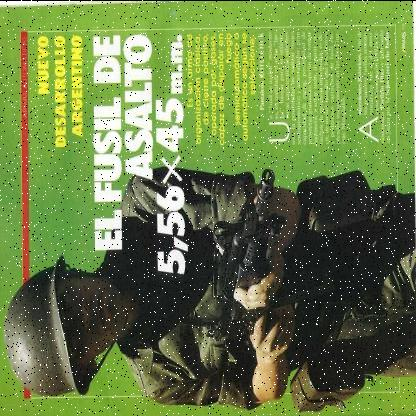rifle: (193, 164, 338, 383)
